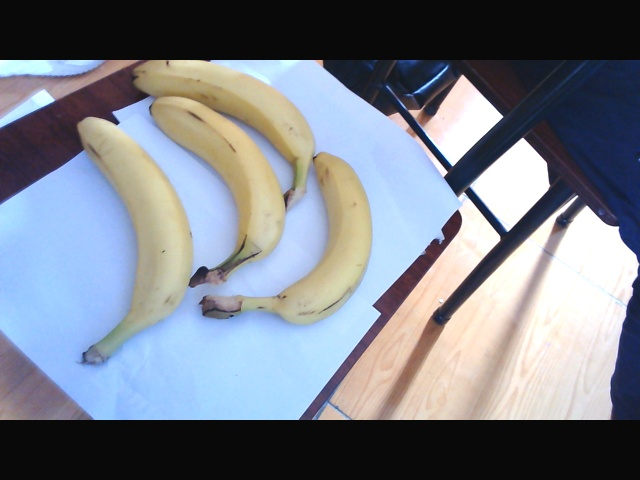banana: (156, 33, 320, 271), (79, 121, 190, 376), (309, 142, 382, 323)
